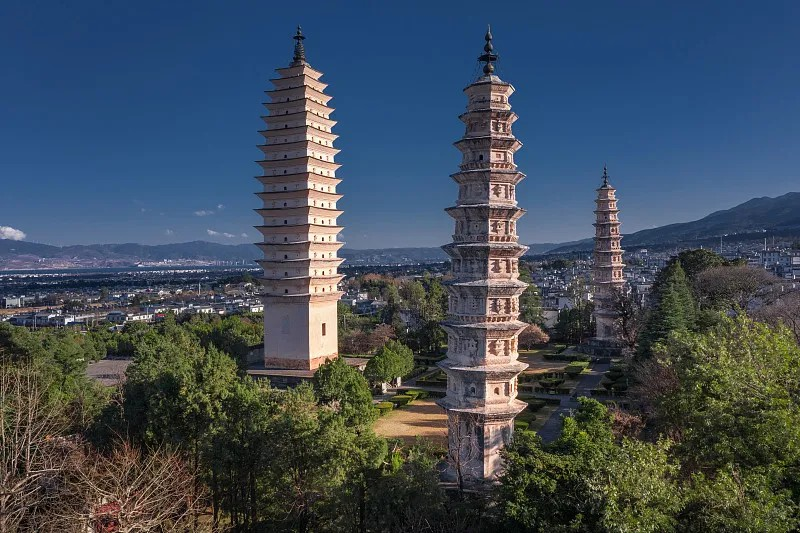ThreePagoda: (254, 24, 347, 369)
